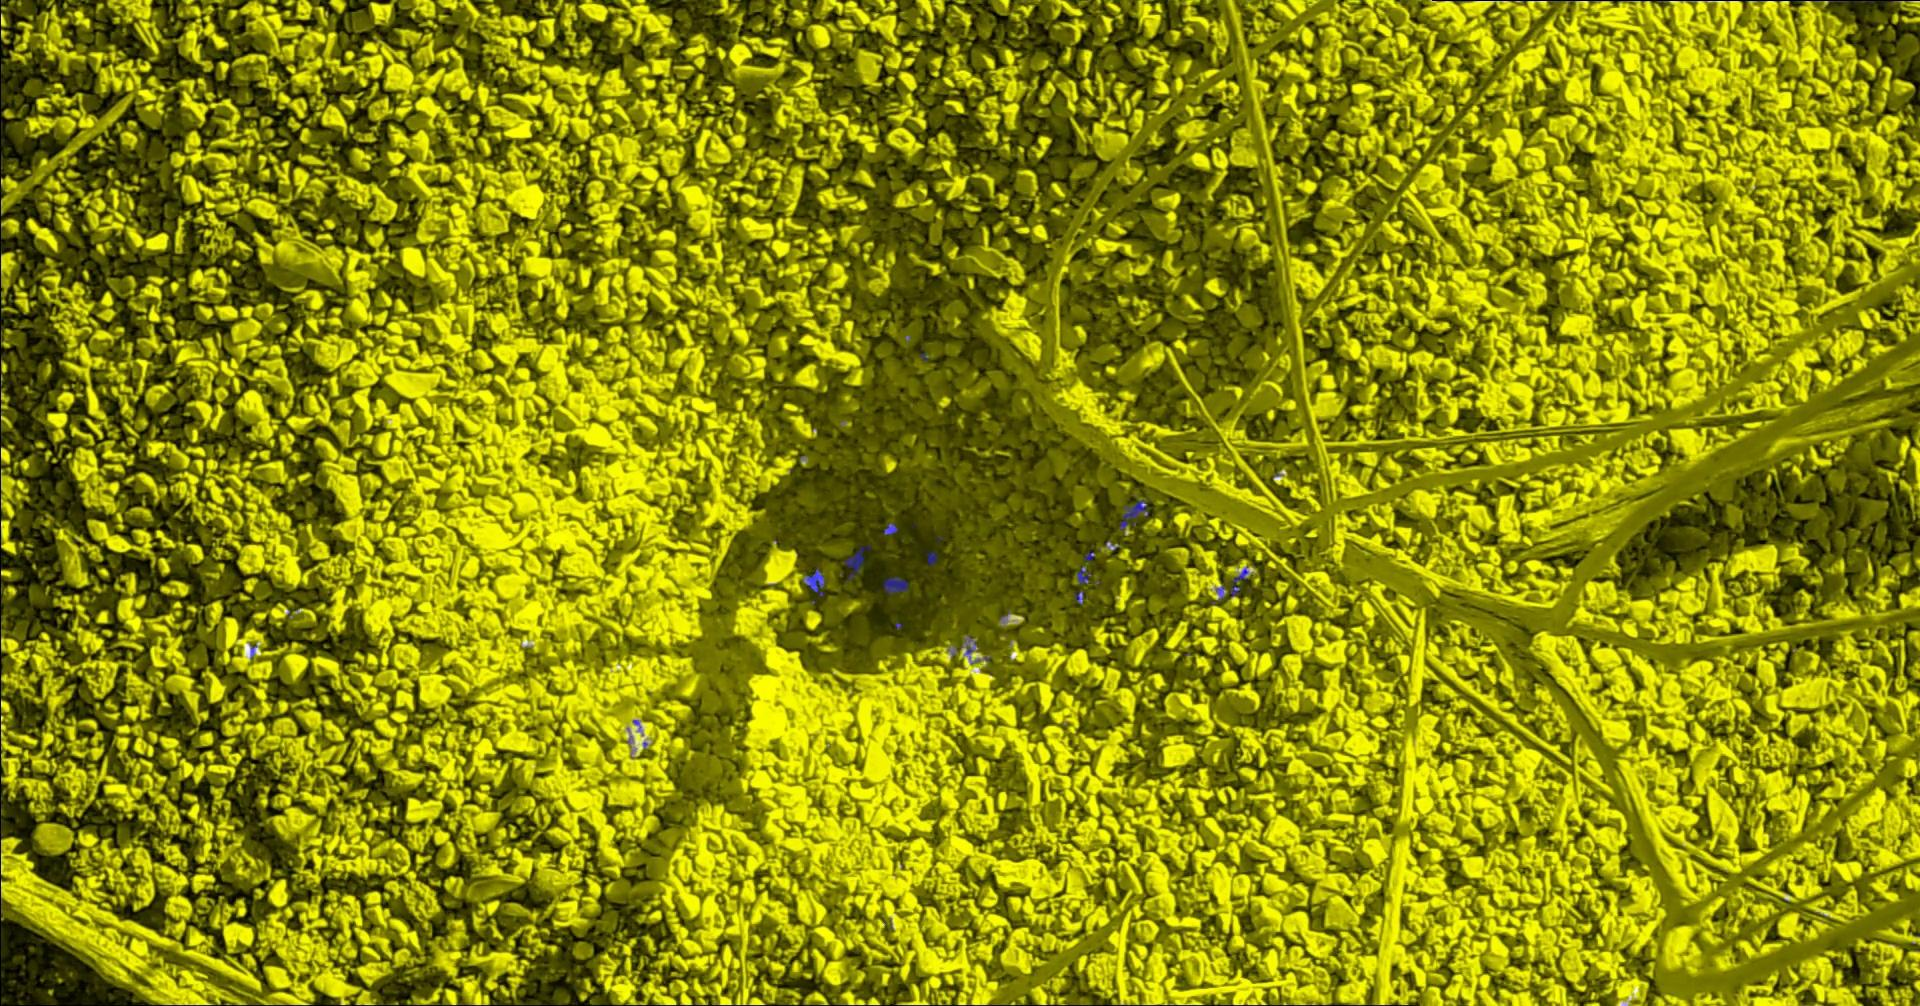ant: (1119, 498, 1149, 530), (843, 545, 870, 578), (803, 567, 824, 596), (1229, 565, 1247, 596), (883, 575, 907, 594), (1076, 565, 1090, 583), (883, 522, 898, 535), (926, 551, 937, 565)
